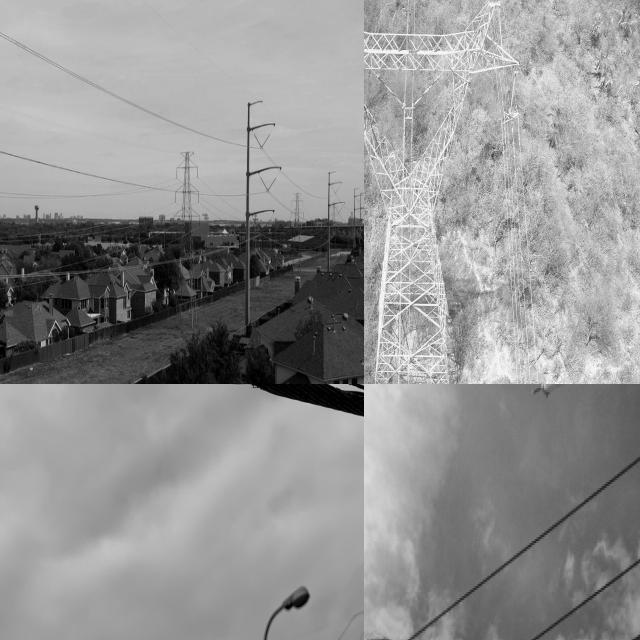杆塔: (364, 0, 534, 384), (168, 142, 205, 336)
正常绝缘子: (506, 66, 521, 119), (257, 127, 274, 153), (265, 171, 280, 196), (256, 173, 271, 194), (252, 130, 264, 152)
